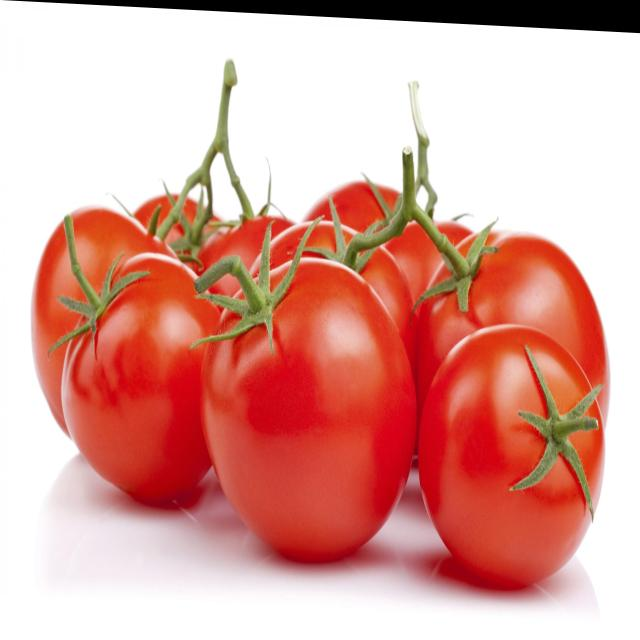kirmizi: (27, 124, 616, 611)
